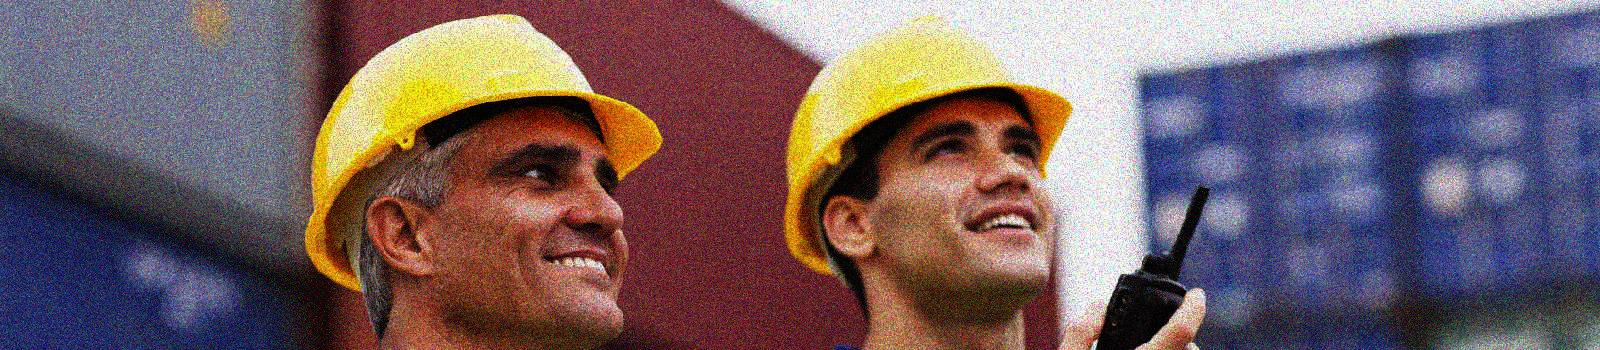helmet: (294, 3, 667, 343), (763, 10, 1076, 311)
